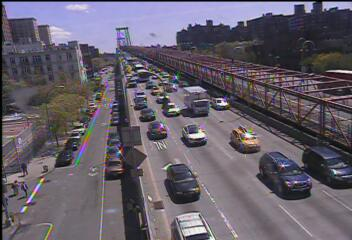neg: (99, 138, 120, 167), (45, 196, 66, 224), (249, 132, 266, 155), (241, 89, 258, 111), (92, 107, 108, 129), (283, 176, 298, 195), (89, 186, 103, 206), (184, 103, 197, 121), (118, 51, 130, 68), (20, 115, 31, 130), (3, 133, 13, 146), (34, 74, 42, 85), (102, 68, 110, 78), (69, 68, 77, 78), (158, 65, 165, 73)
